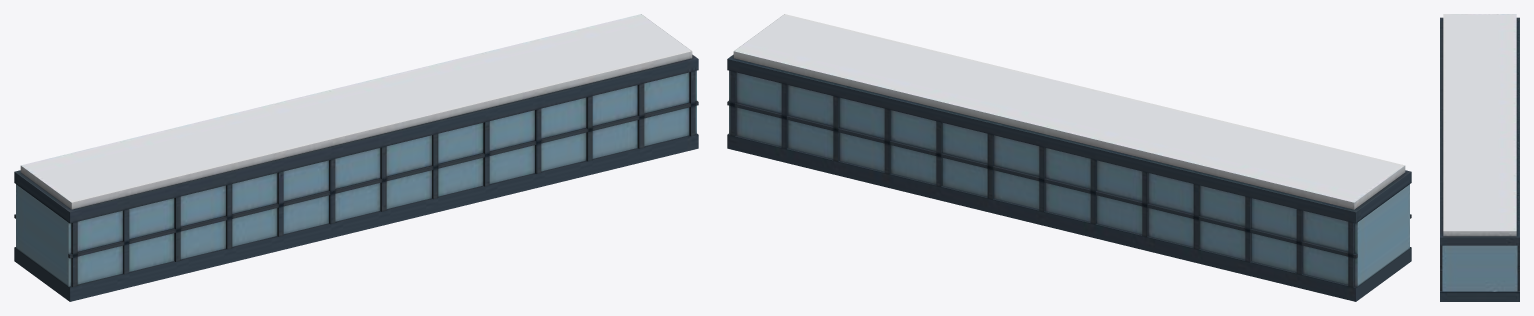
The model's file is skywalk.glb.
3 renders of one model, left to right at view 1: azimuth 30°, elevation 25°; view 2: azimuth 150°, elevation 25°; view 3: azimuth 270°, elevation 25°, orthographic. The views are drawn at different scales.
Parts seen in each view (by area): view 1: skywalk; view 2: skywalk; view 3: skywalk.
Boxes of the visible parts, left/top/right/bottom form: skywalk: left=14, top=14, right=698, bottom=301; skywalk: left=727, top=14, right=1411, bottom=301; skywalk: left=1440, top=14, right=1519, bottom=301.
Bounding box in the file's own units: 23.5 × 3.45 × 3.6.
1 material, 1 textured.
